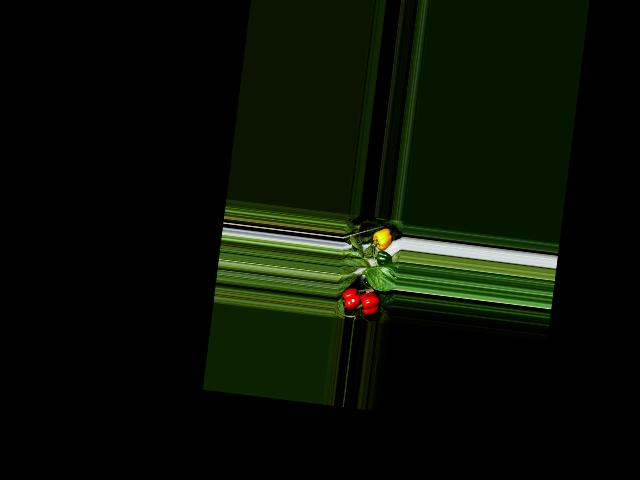bell_pepper: (370, 224, 395, 251)
